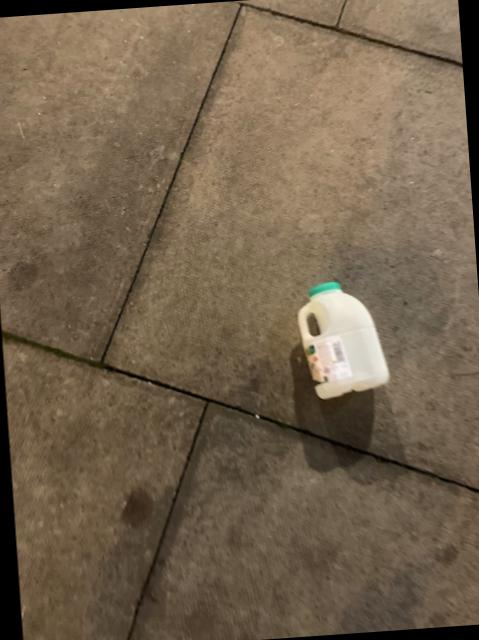plastic: (296, 279, 386, 396)
